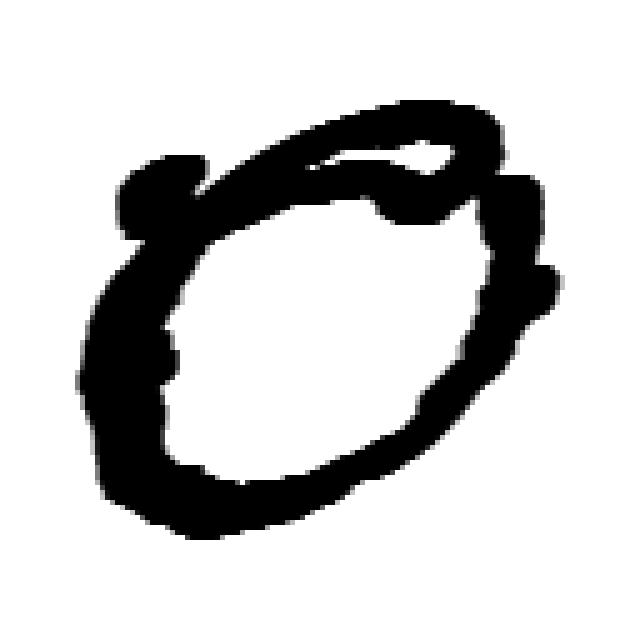O: (100, 154, 561, 546)
